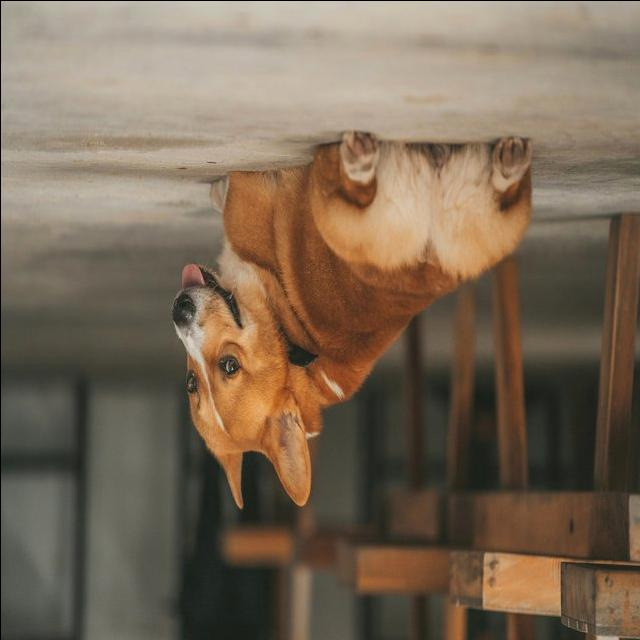corgi: (170, 130, 534, 510)
